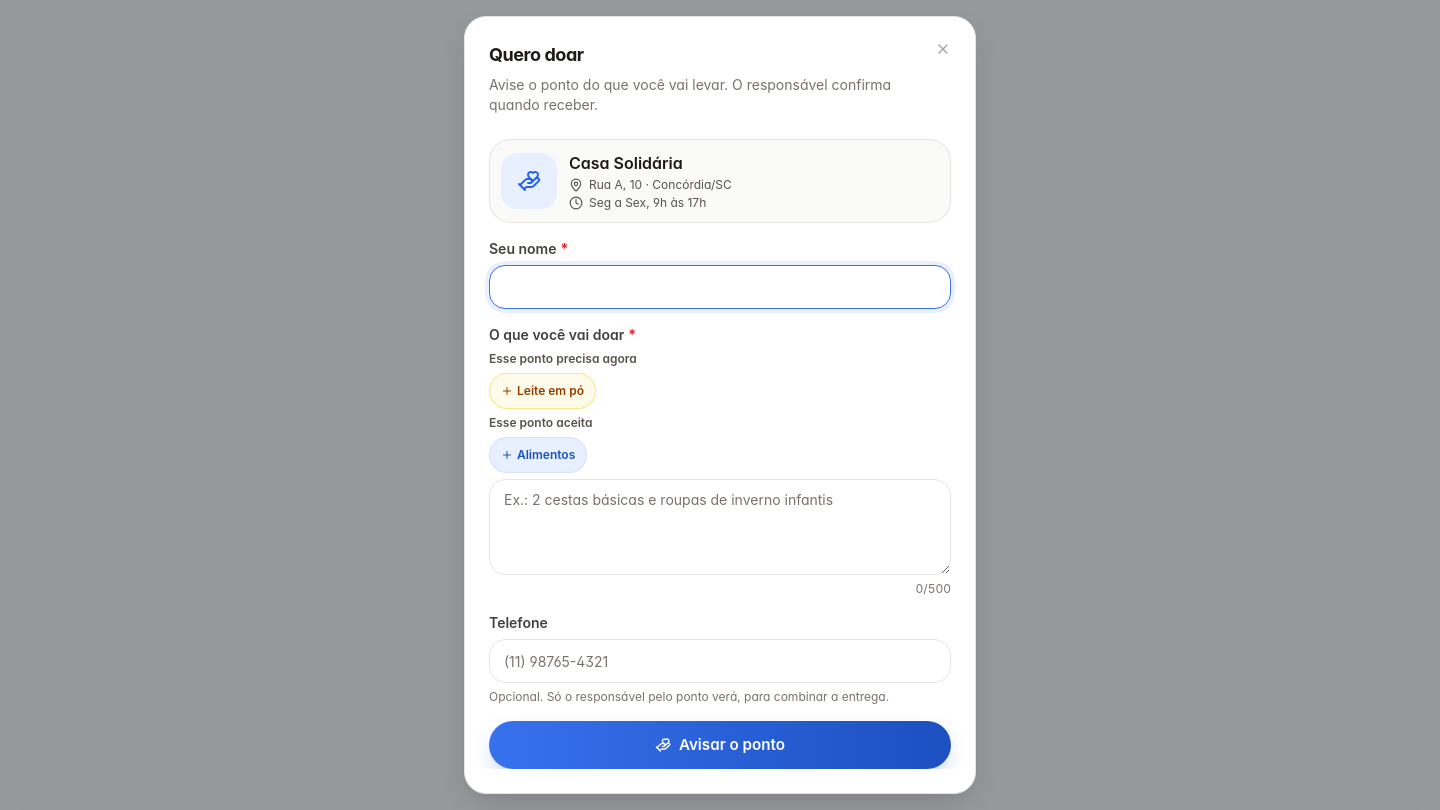
it: PledgeDonationModal › recusa telefone incompleto antes de enviar
Type "Carlos" into the field labelled "Seu nome" at [720, 287], box x1=489 y1=265 x2=951 y2=309
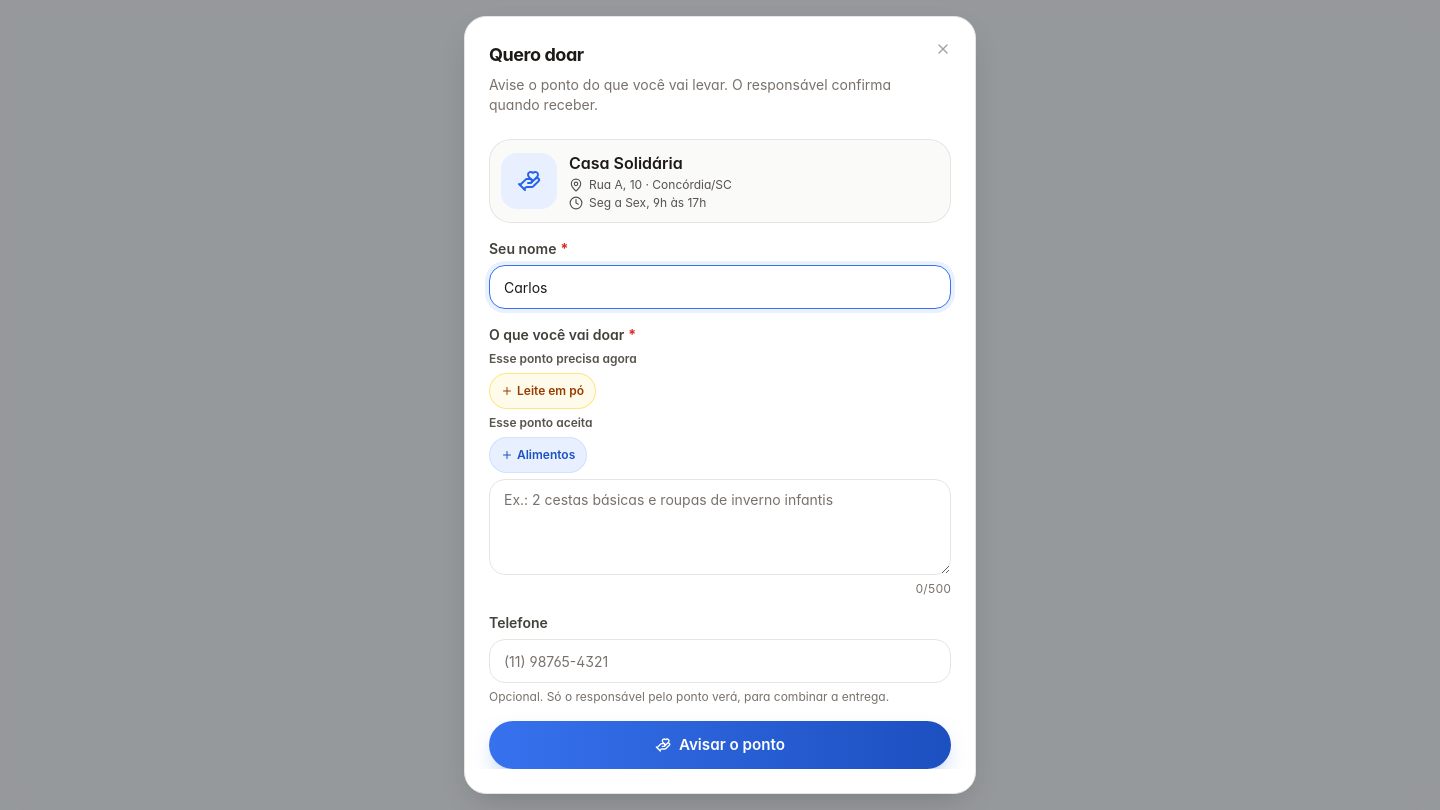
Type "1198" into the field labelled "Telefone" at [720, 661], box x1=489 y1=639 x2=951 y2=683
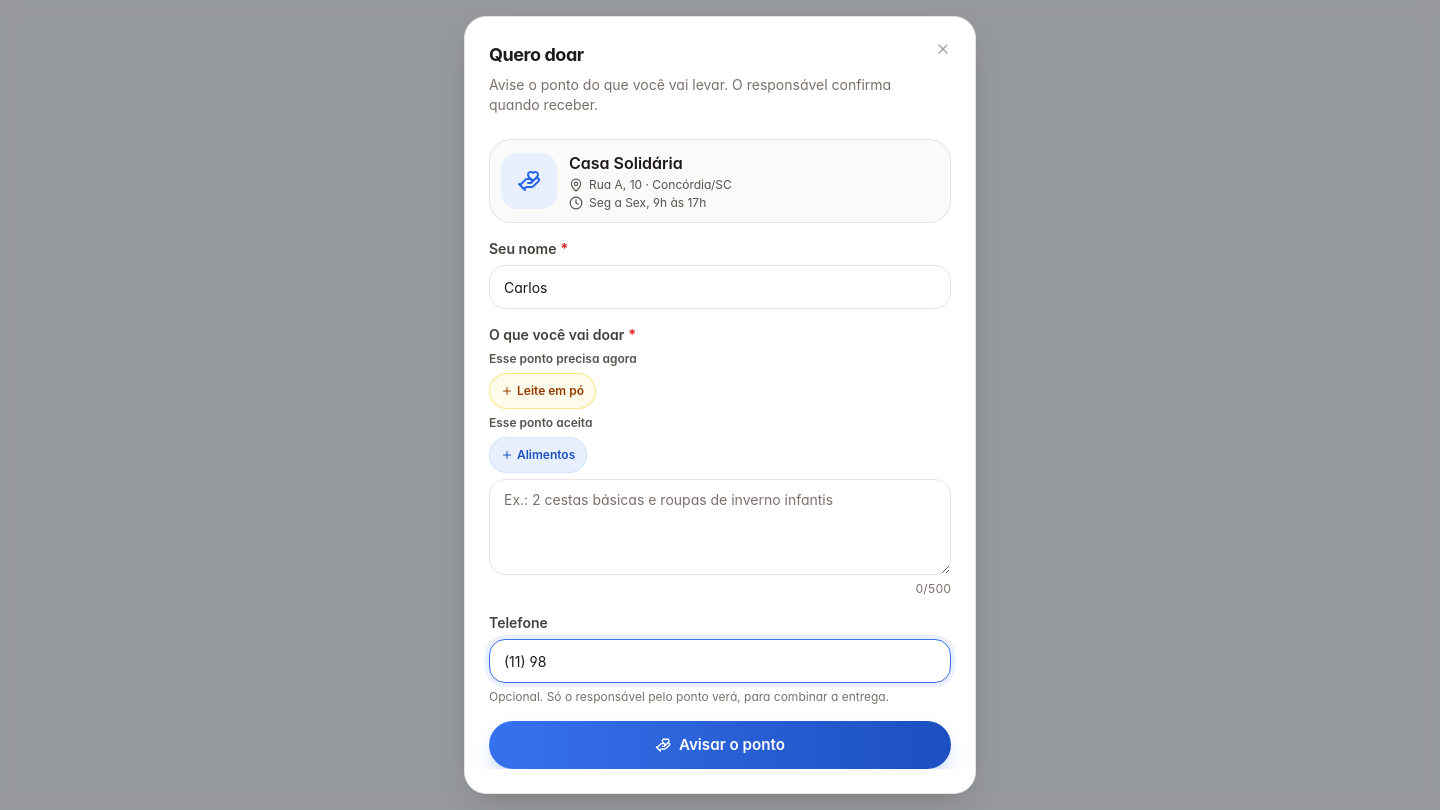
Type "Roupas" into the text box labelled "O que você vai doar" at [720, 527], box x1=489 y1=479 x2=951 y2=575
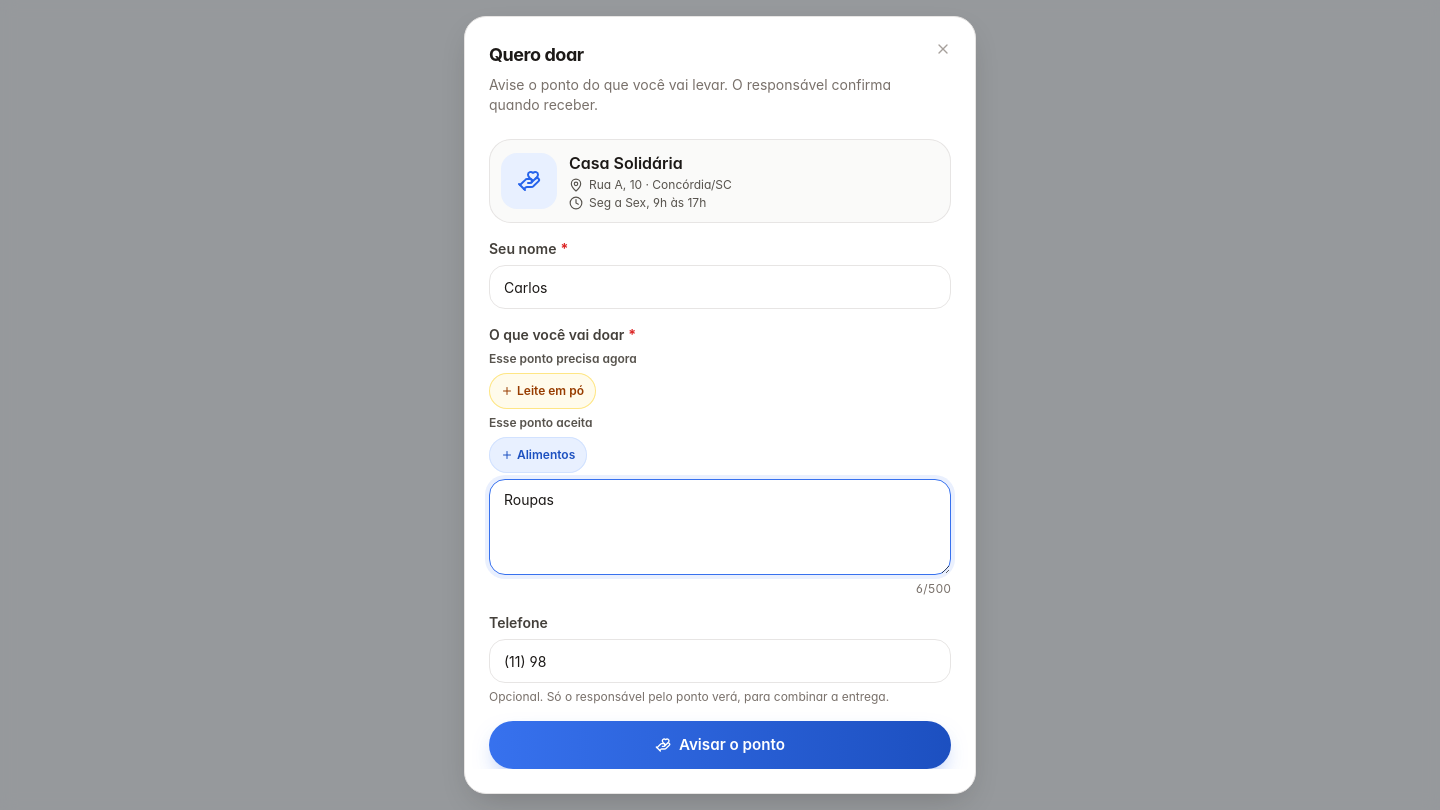
Click the button "Avisar o ponto" at [720, 745], box x1=489 y1=721 x2=951 y2=769
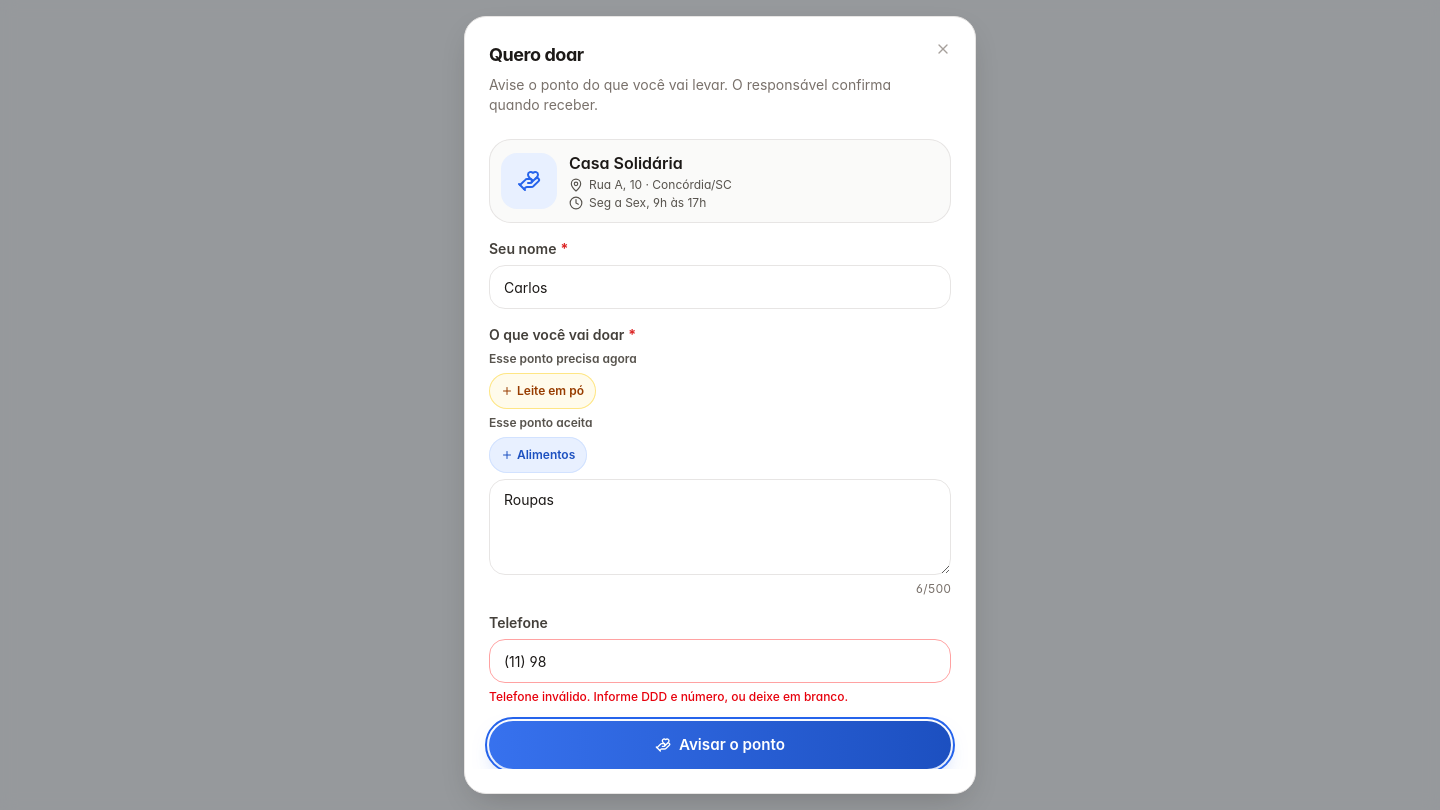
expect the text "Telefone inválido. Informe DDD e número, ou deixe em branco." is shown: met, box x1=489 y1=689 x2=848 y2=704
